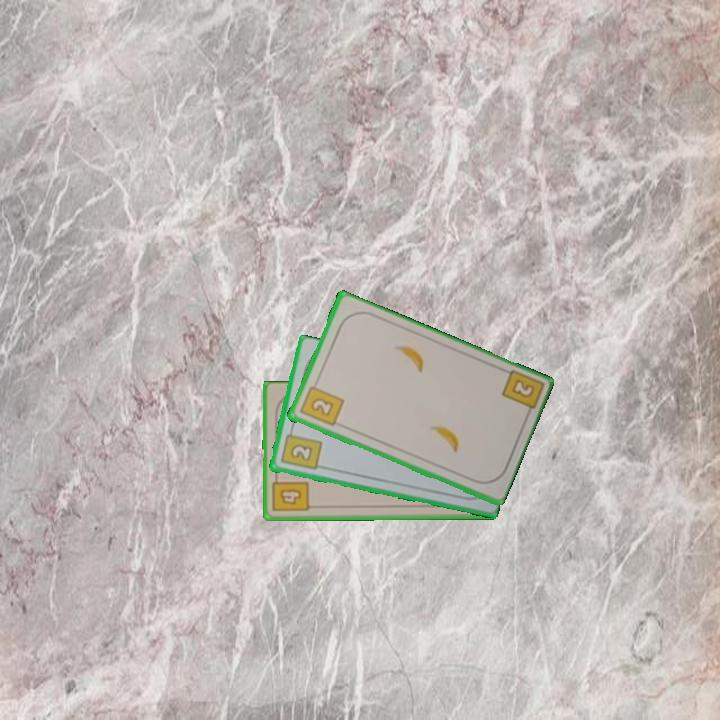2b: (296, 377, 346, 429), (498, 366, 544, 420), (277, 425, 324, 473)
4b: (269, 472, 311, 514)
